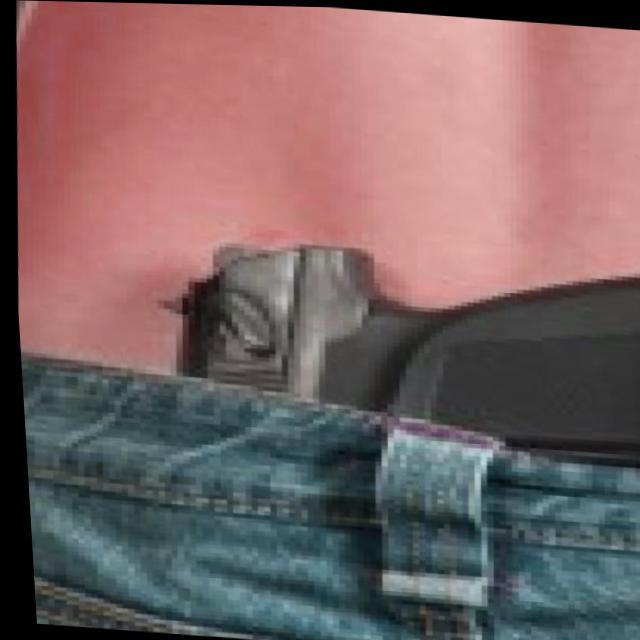weapon: (149, 225, 640, 462)
